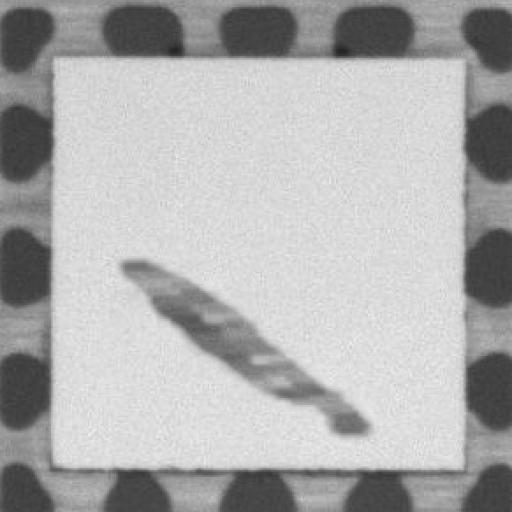DIE_INK: (109, 252, 368, 435)
